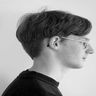ear: (44, 29, 65, 56)
